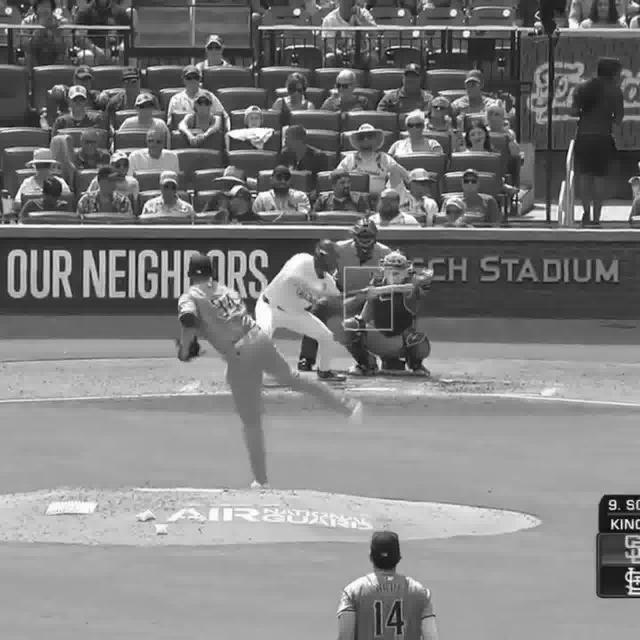base: (343, 386, 403, 394)
baseball: (416, 274, 424, 282)
baseball_glove: (178, 338, 202, 362), (408, 269, 434, 291)
bat: (333, 284, 415, 300)
shoe: (398, 362, 435, 381), (316, 367, 348, 384), (349, 400, 365, 430), (354, 362, 382, 377), (250, 477, 274, 493)
